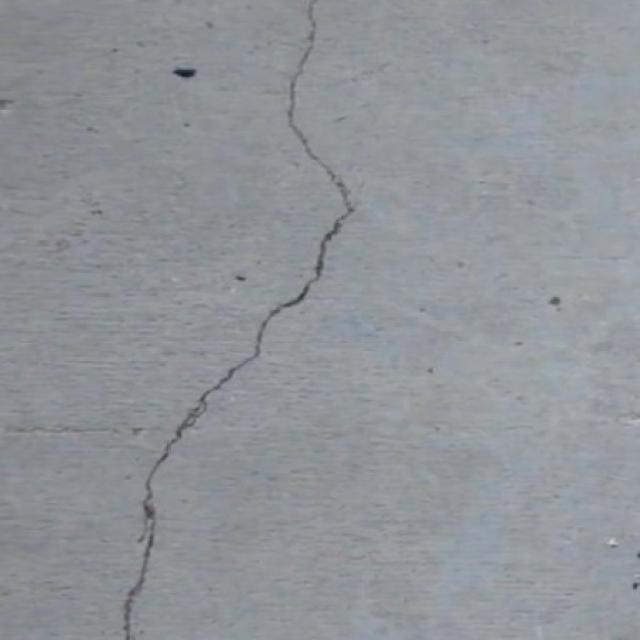Vertical Crack: (124, 2, 353, 638)
